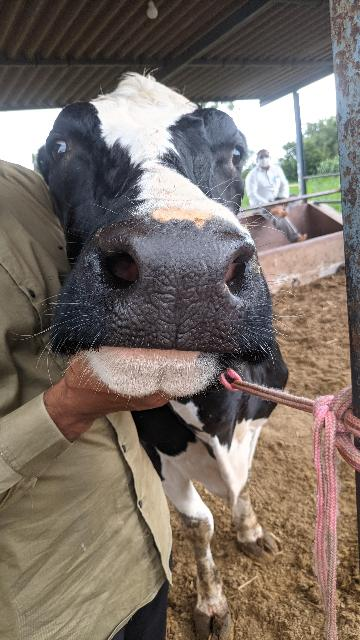Muzzle: (106, 228, 234, 346)
